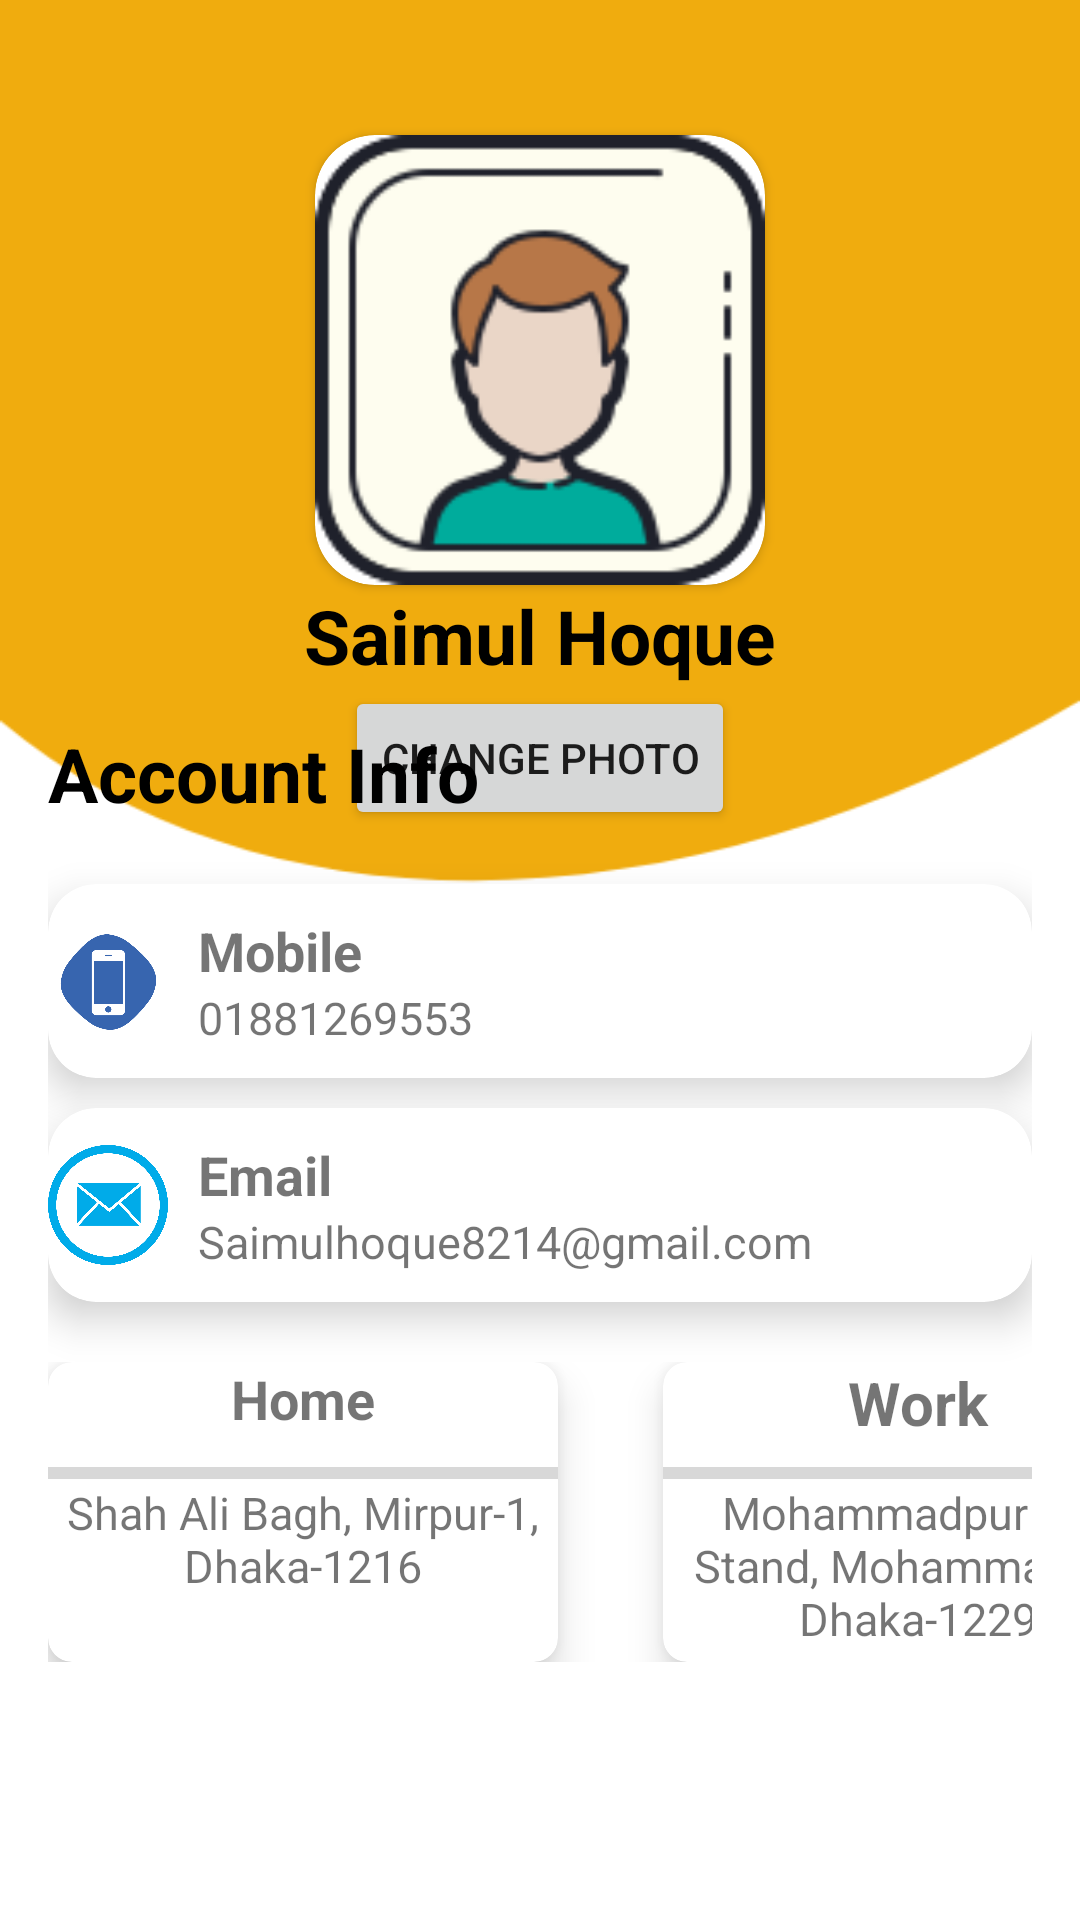

Screen size 1080*1920. Icon name, then its center in pixels as (x,y):
phone: (108,982)
